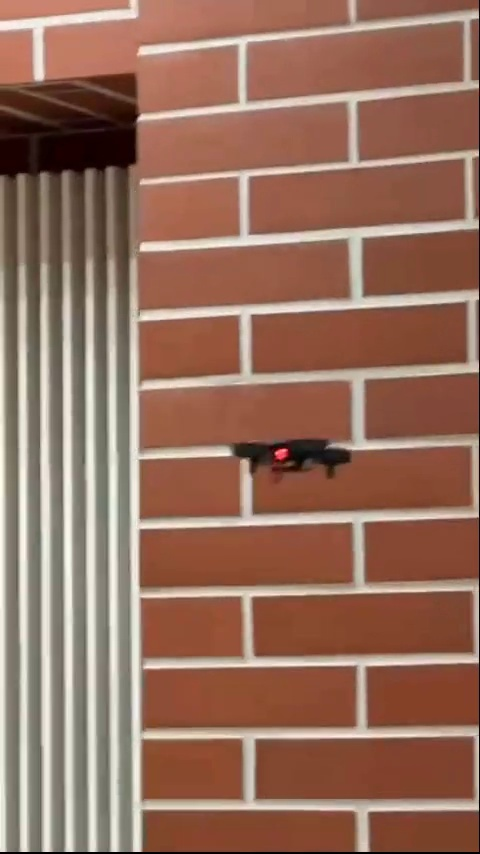drone: (238, 431, 352, 479)
